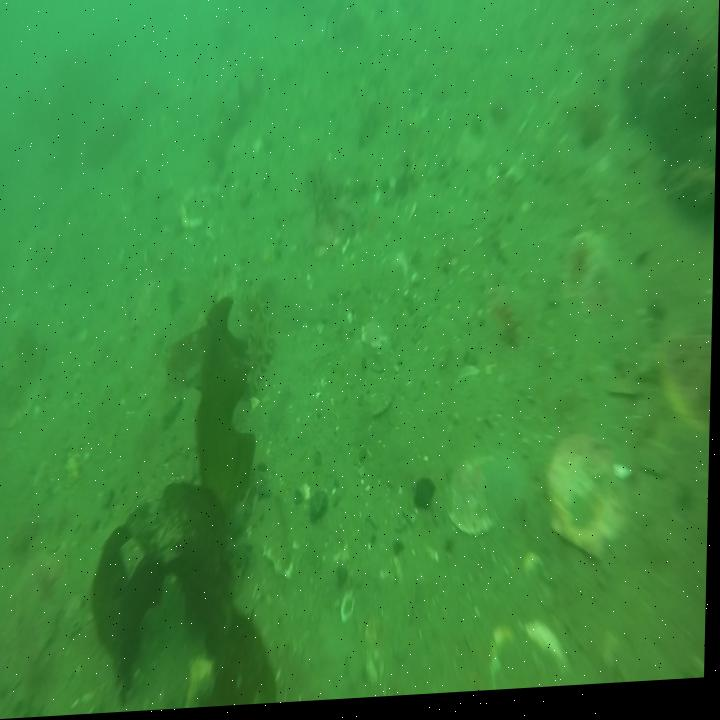holothurian: (243, 286, 275, 392)
scallop: (548, 439, 630, 573), (445, 453, 533, 540)
